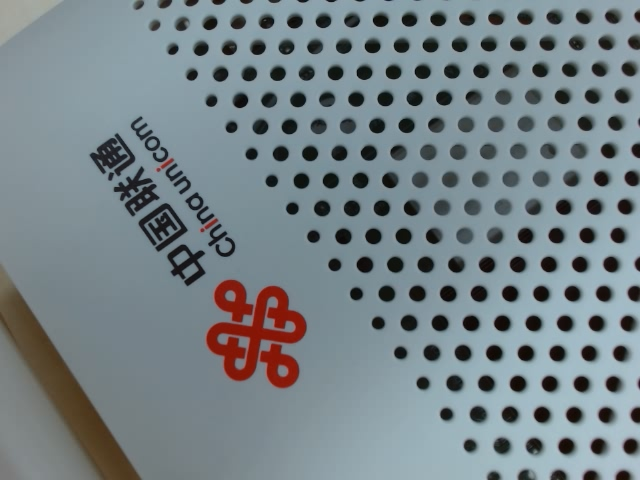AD_ChinaUnicom: (67, 105, 311, 398)
